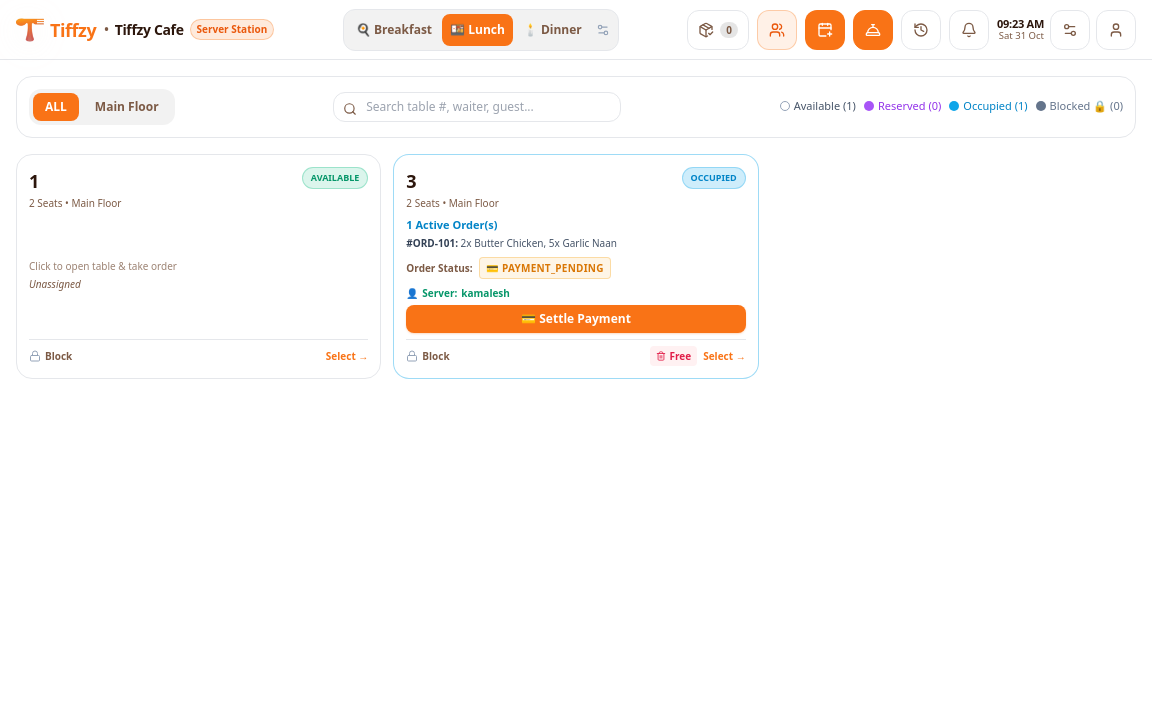
Test: Tiffzy Server Station — Cash/UPI Payment Settlement & Bill Printing › Server Station Table Card Settle Payment Button Visibility & User Flow › 3: Clicking Settle Payment directly on Table 3 card opens the payment modal
The image size is (1152, 720).
Click the button with test id "settle-payment-btn-3".
click(576, 319)  # box [406,305,746,333]
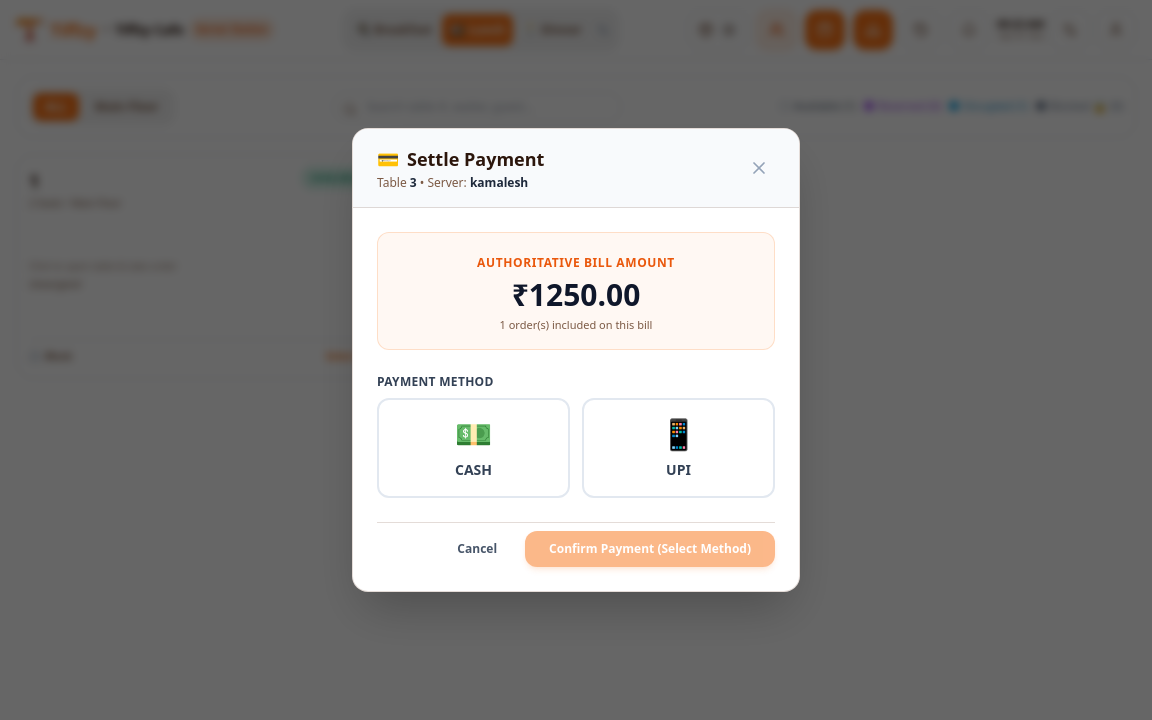
Now the dialog with test id "settle-payment-modal" is shown
Now the text with test id "modal-bill-amount" reads "₹1250.00", box [512,274,640,315]
